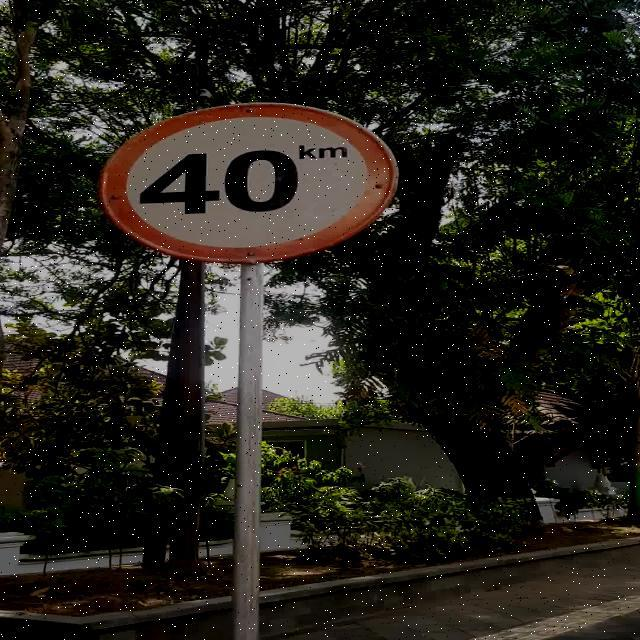Kecepatan Maks. 40 km: (99, 102, 400, 264)
